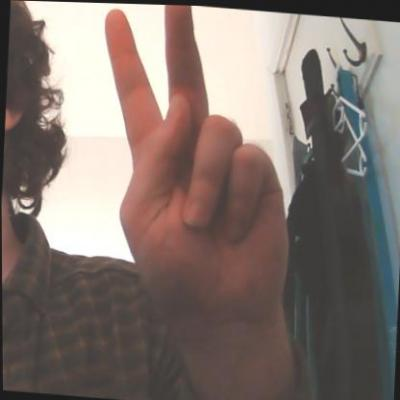hand: (89, 2, 297, 310)
